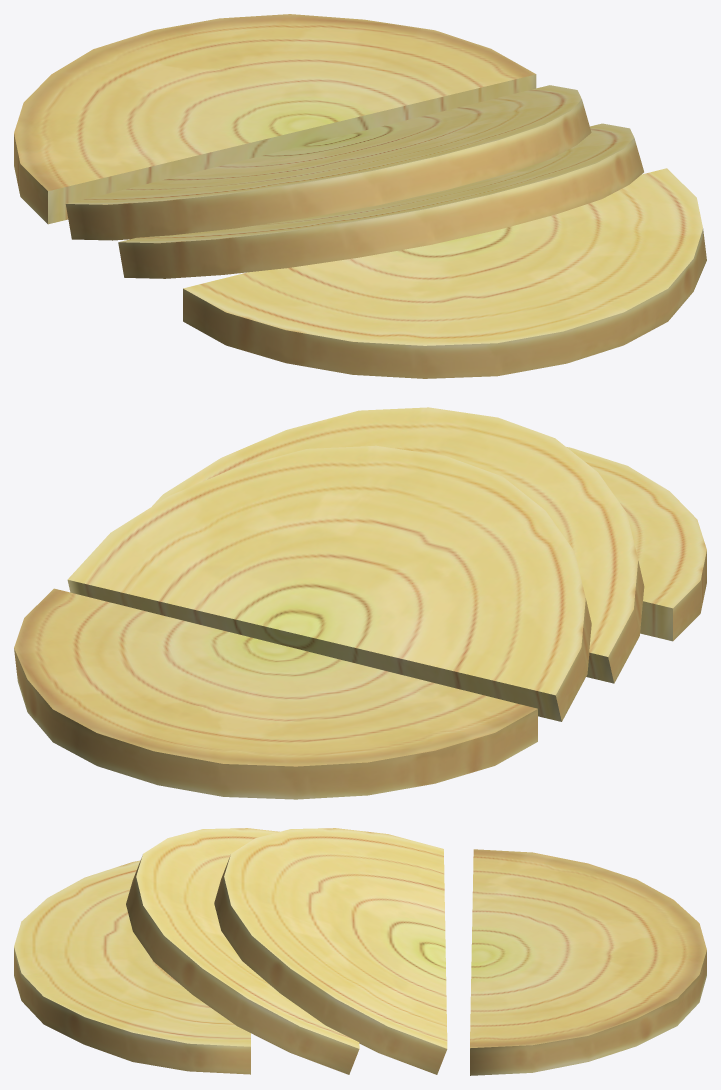
The model's file is sogan_dilimlenmis.fbx.
3 renders of one model, top to bottom at view 1: azimuth 30°, elevation 25°; view 2: azimuth 150°, elevation 25°; view 3: azimuth 270°, elevation 25°, orthographic. The views are drawn at different scales.
Parts seen in each view (by area): view 1: sogan_dilimler; view 2: sogan_dilimler; view 3: sogan_dilimler.
Part boxes in pixels (<box>): sogan_dilimler: <box>14,14,706,378</box>; sogan_dilimler: <box>14,407,706,799</box>; sogan_dilimler: <box>14,828,706,1075</box>.
Bounding box in the file's own units: 14.45 × 3.37 × 21.27.
1 material, 1 textured.
